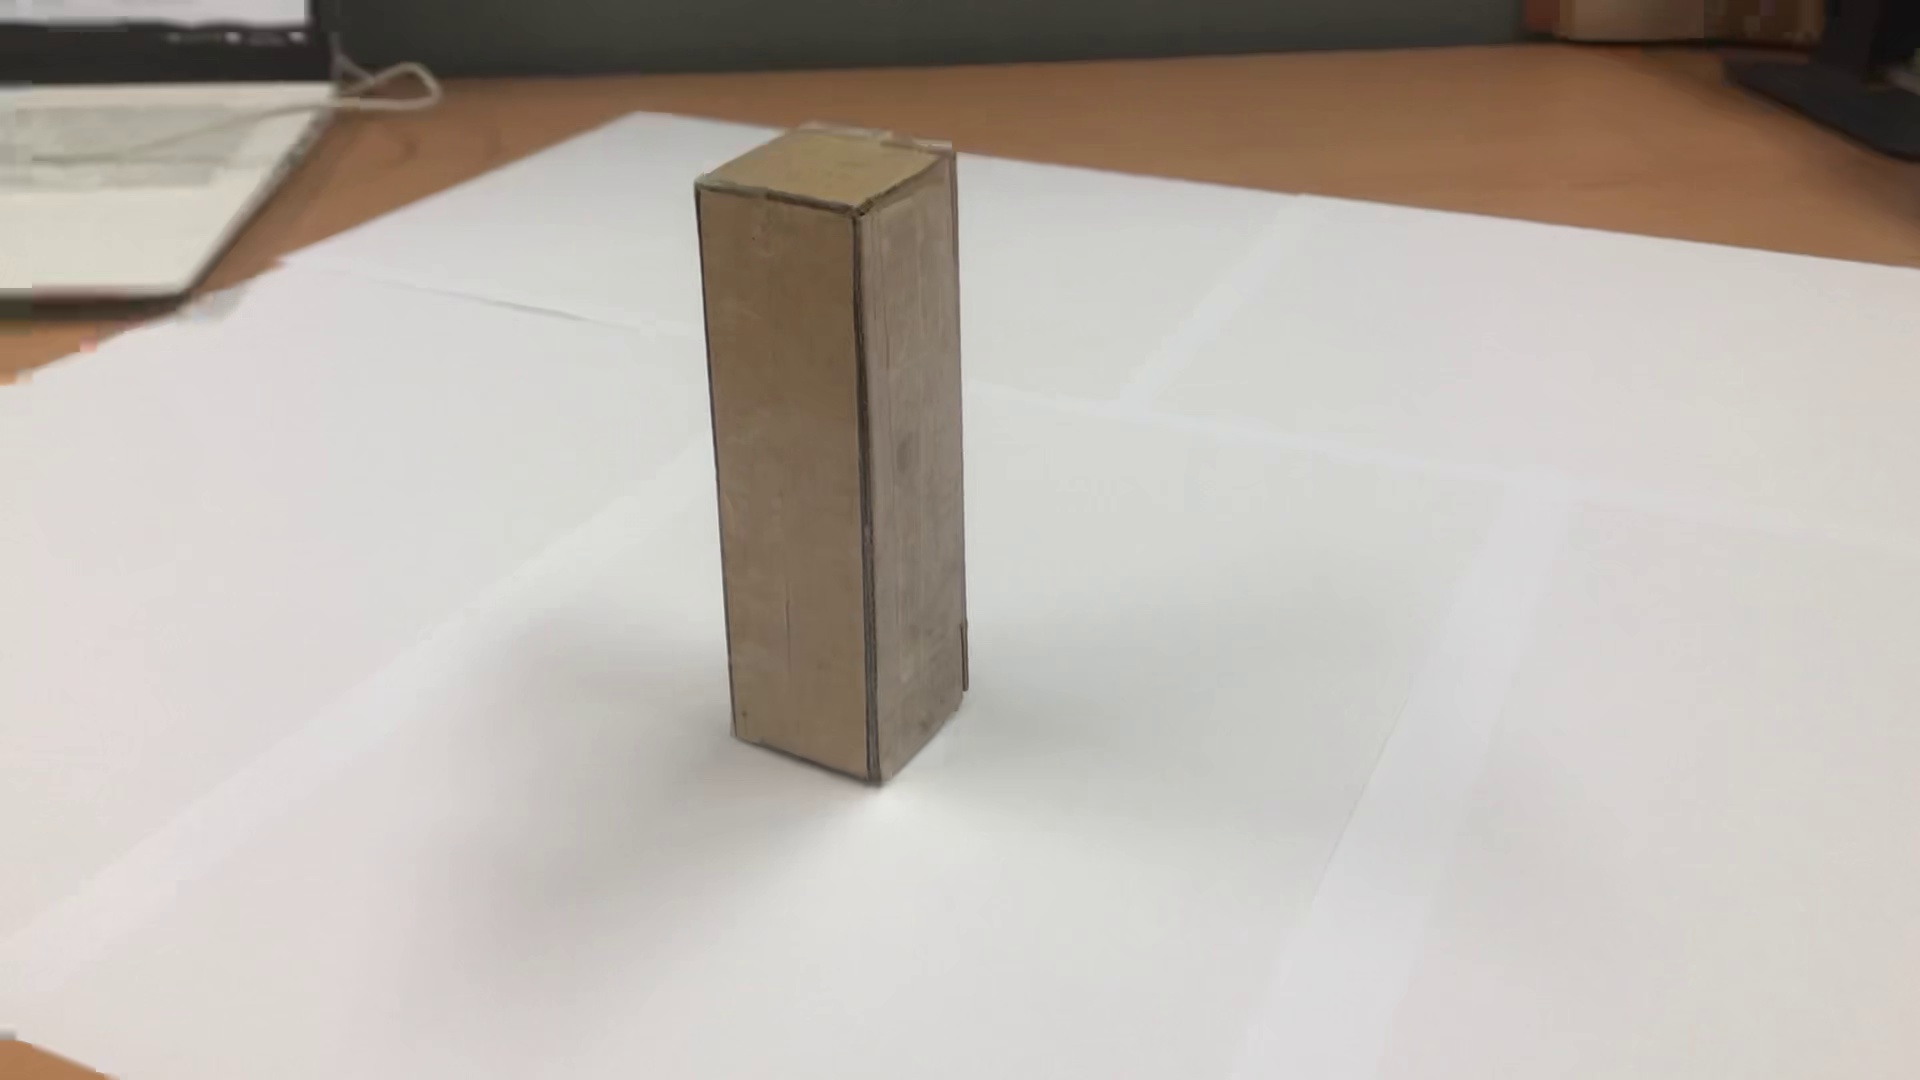box: (655, 109, 1018, 802)
